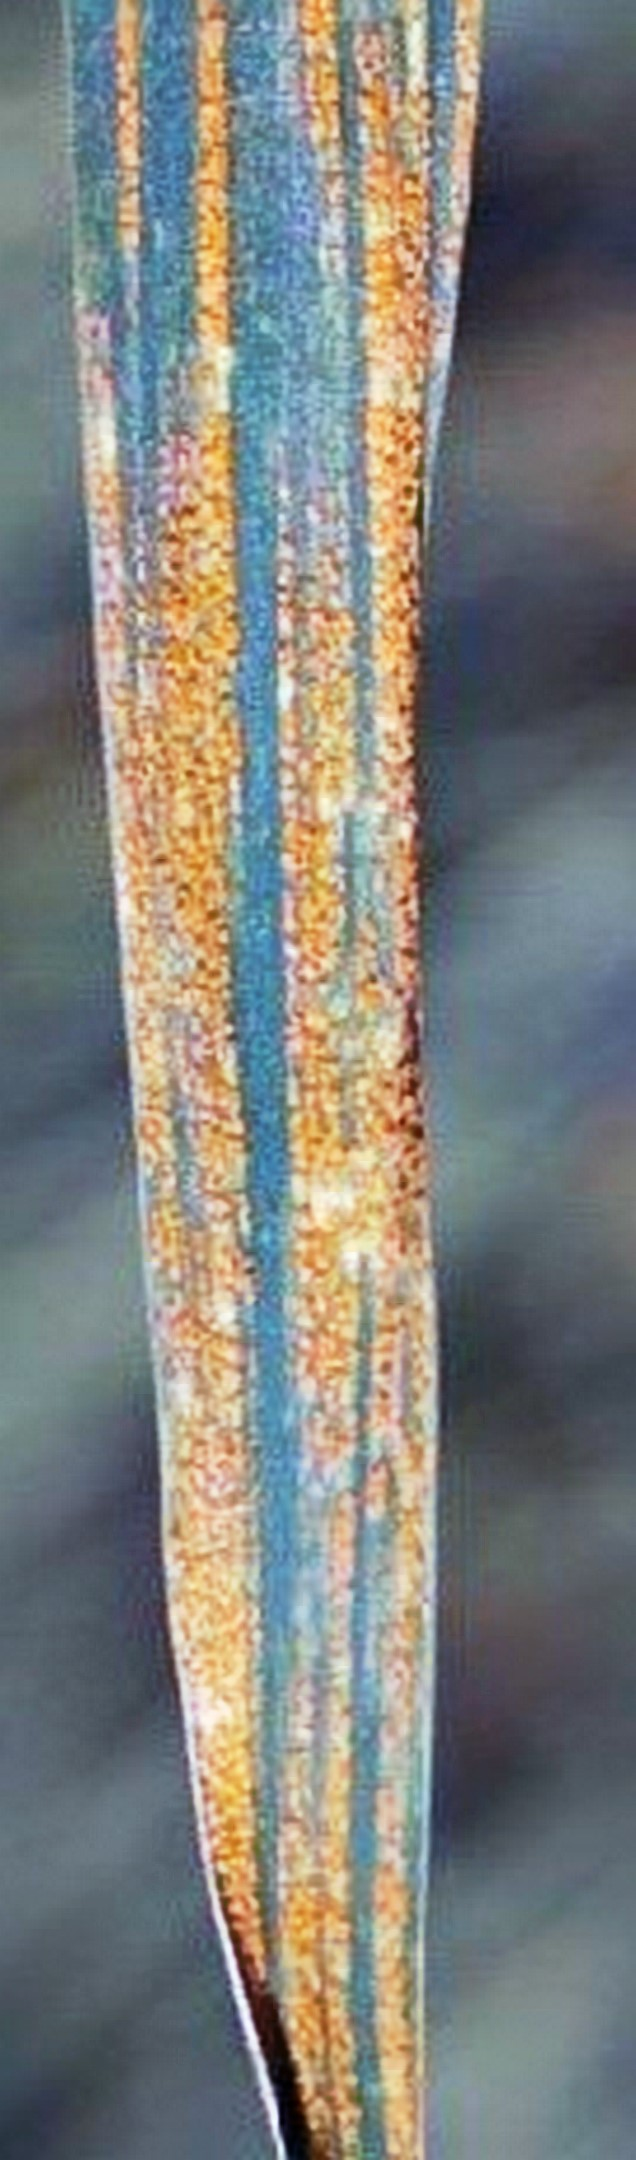Leaf Rust: (43, 52, 519, 2054)
